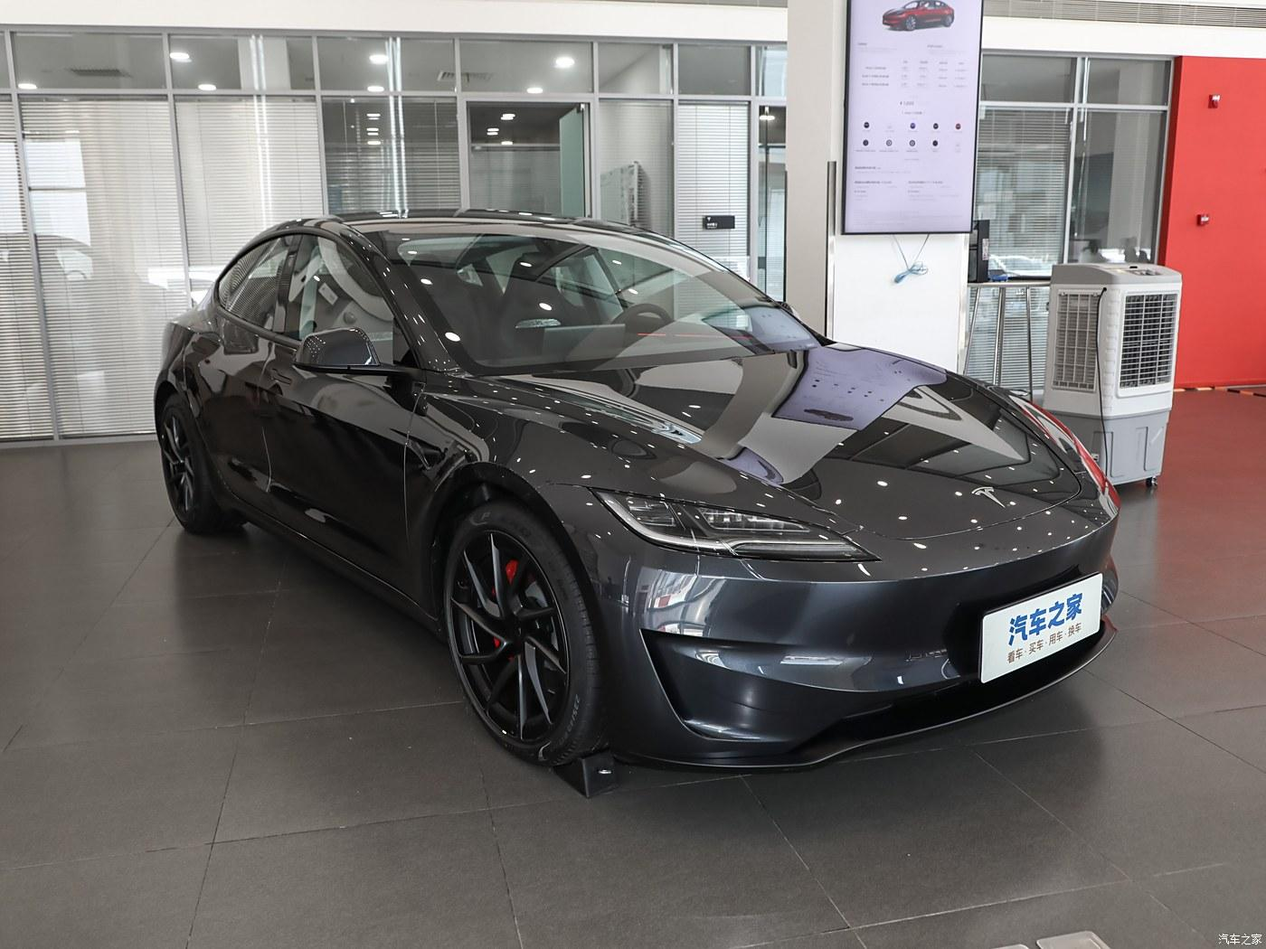Tesla: (970, 485, 1006, 508)
